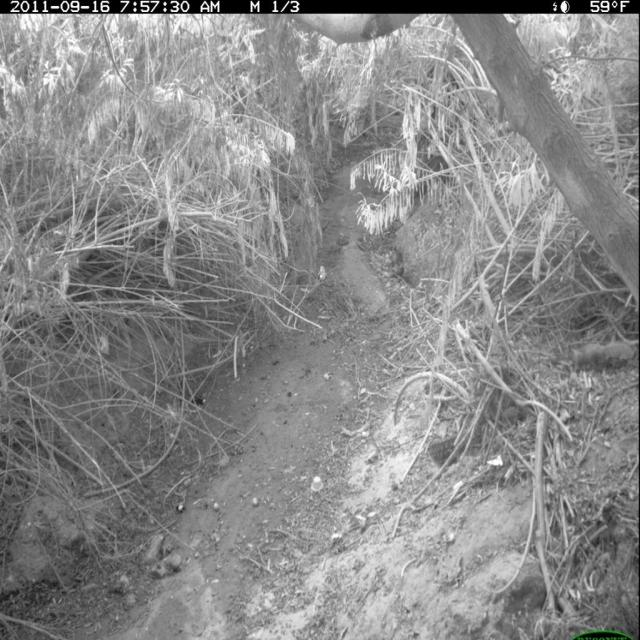squirrel: (563, 337, 636, 375)
